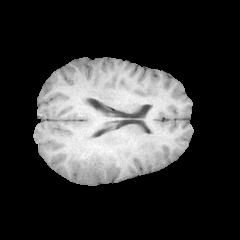glioma: (74, 140, 116, 181)
